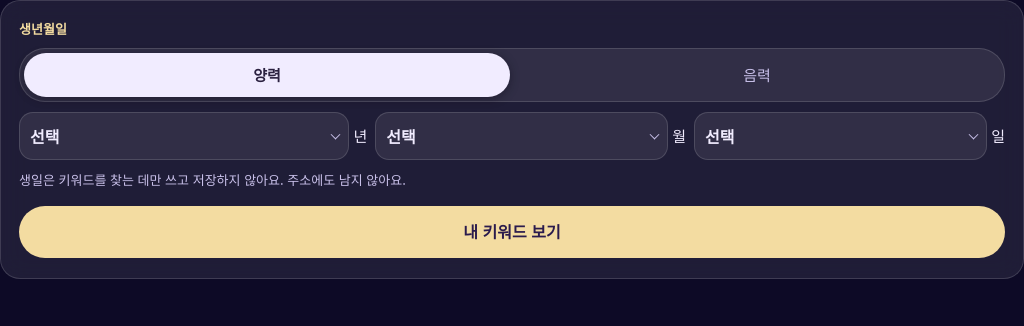
the form › asks for every part of the date and goes nowhere until then
Select "1990" in the dropdown named "태어난 연도": (184, 136) [19,112,349,160]
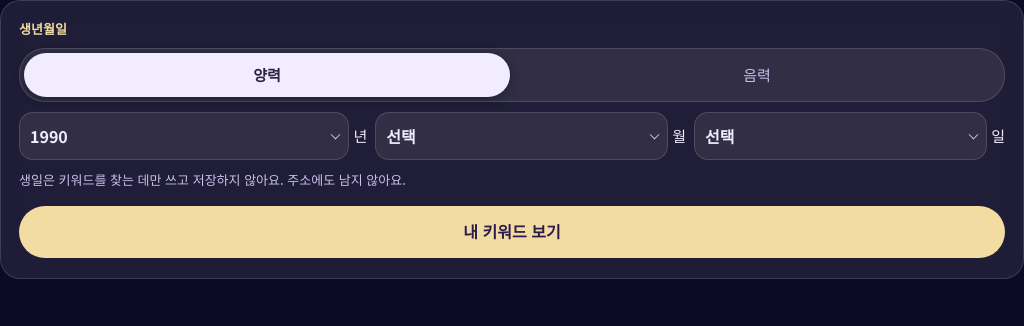
Click the button "내 키워드 보기": (512, 232) [19,206,1005,258]
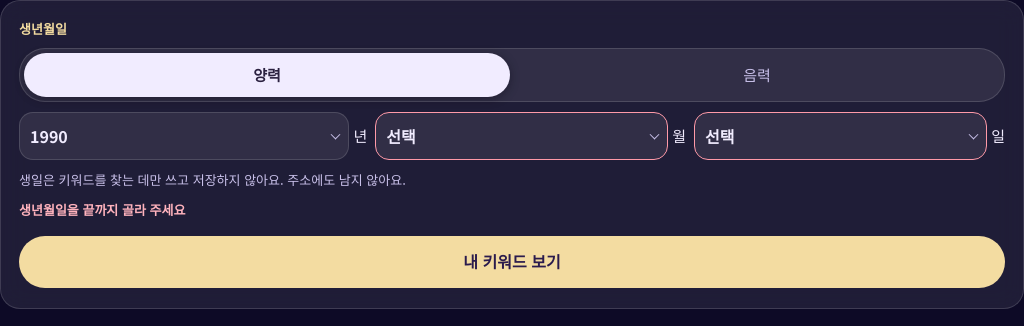
Result: the message reads "생년월일을 끝까지 골라 주세요" at [19,200,185,219]
